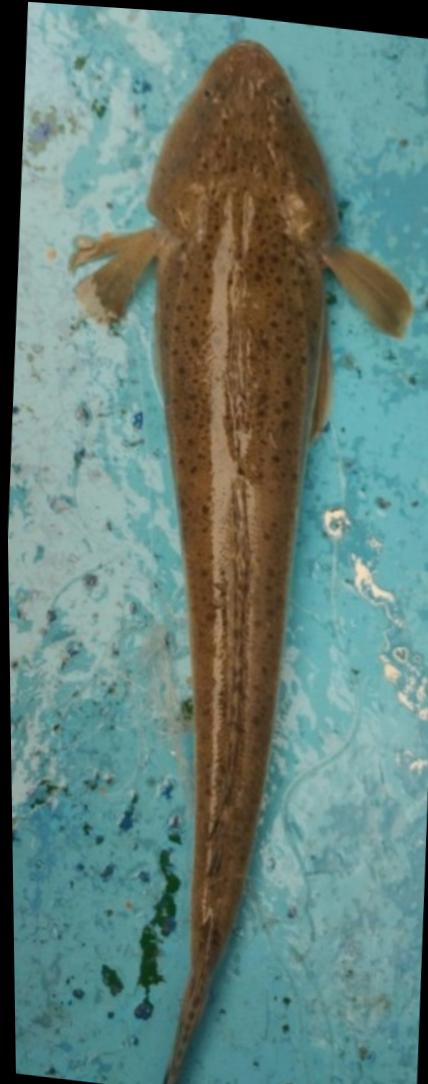fish: (70, 37, 412, 1084)
